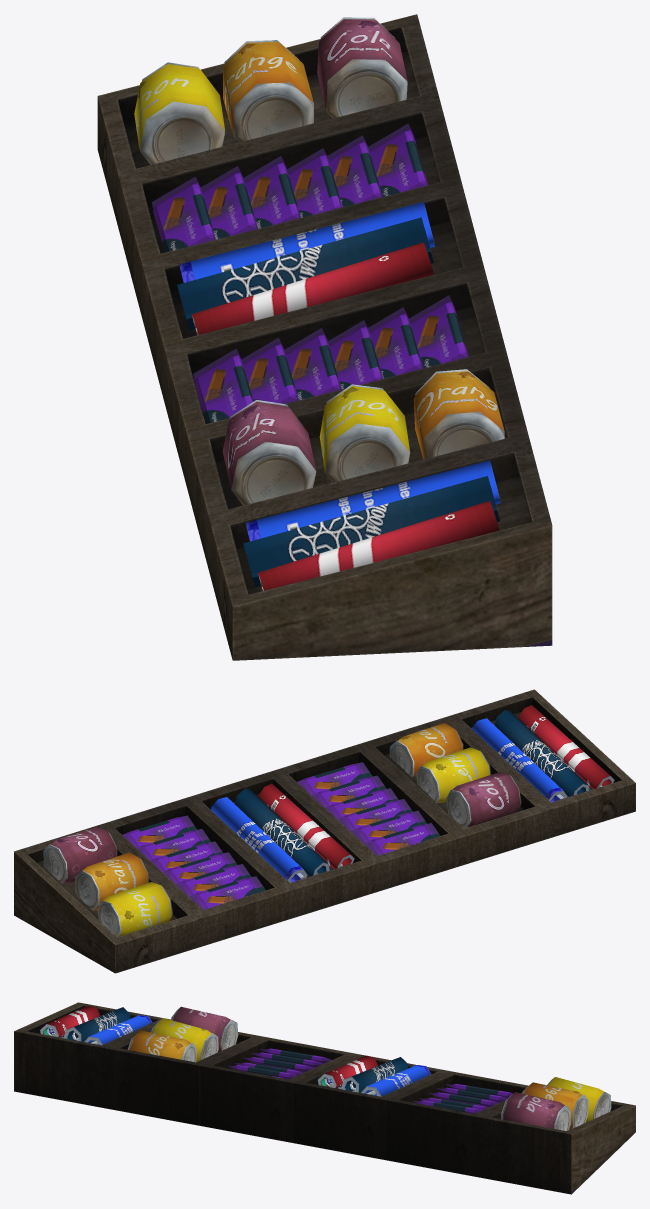
File: Props_1_Kiosk_COMBO.fbx
3 renders of one model, top to bottom at view 1: azimuth 30°, elevation 25°; view 2: azimuth 150°, elevation 25°; view 3: azimuth 270°, elevation 25°, orthographic. The views are drawn at different scales.
Visible parts, largest first — view 1: PRFB_conn_03_0015_Chocolate; view 2: PRFB_conn_03_0015_Chocolate; view 3: PRFB_conn_03_0015_Chocolate.
Boxes of the visible parts, left/top/right/bottom form: PRFB_conn_03_0015_Chocolate: left=97, top=14, right=552, bottom=660; PRFB_conn_03_0015_Chocolate: left=14, top=689, right=635, bottom=973; PRFB_conn_03_0015_Chocolate: left=14, top=1002, right=635, bottom=1194.
Bounding box in the file's own units: 0.7412 × 0.1525 × 1.18.
